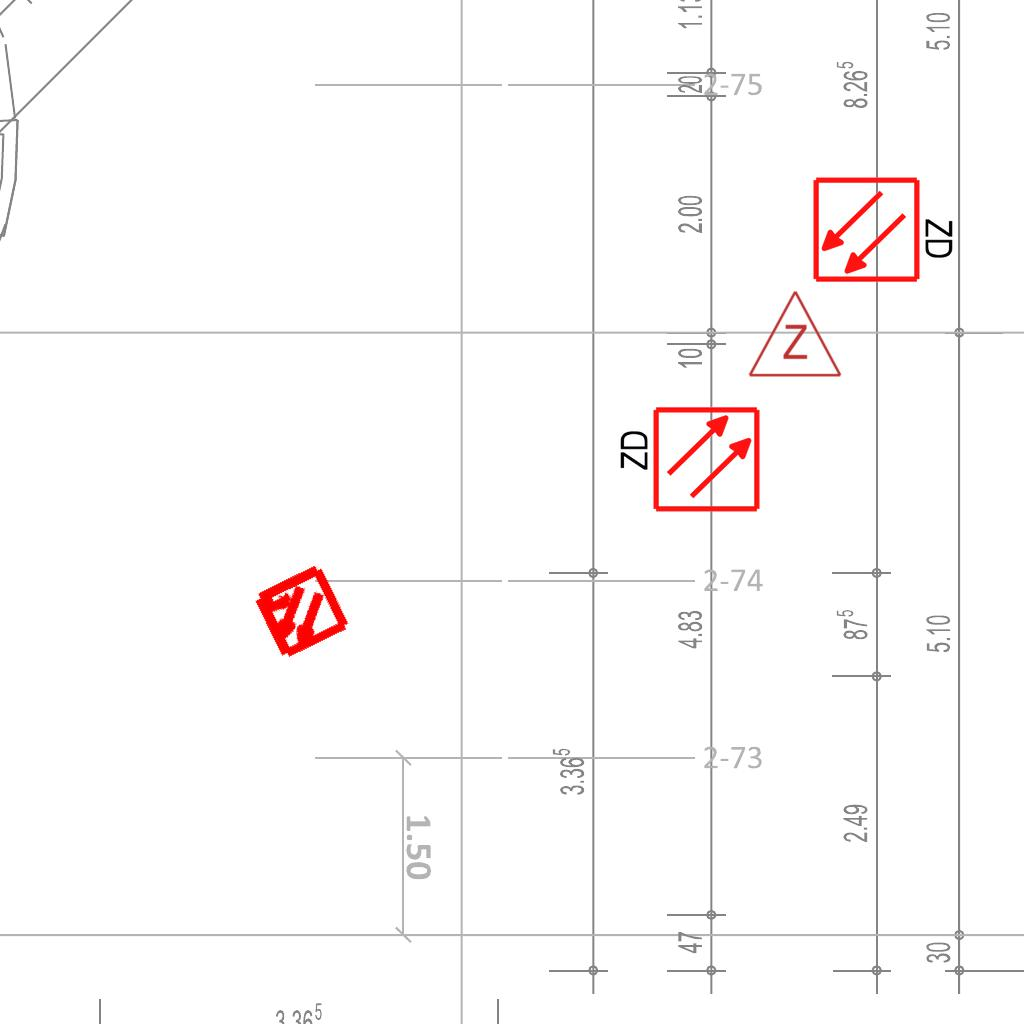OT_Multisensormelder_(Kombination_RMO_WMD): (223, 536, 376, 689)
ZD_Melder_in_Zwischendecke_mit_Revisionsoeffnung_mind_40_x_40_cm: (613, 404, 762, 518), (811, 171, 960, 285)
Zimmersignalleuchte: (745, 284, 843, 384)
